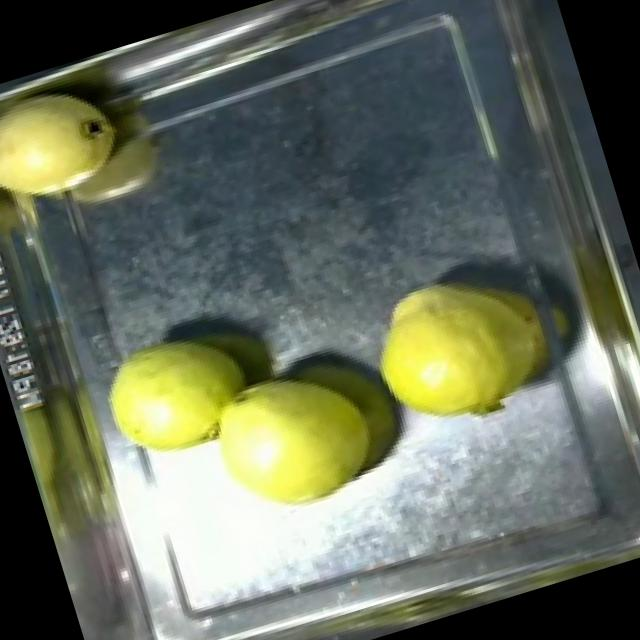Fruit: (348, 246, 574, 452), (184, 341, 394, 538), (78, 310, 272, 483), (0, 52, 143, 238)
